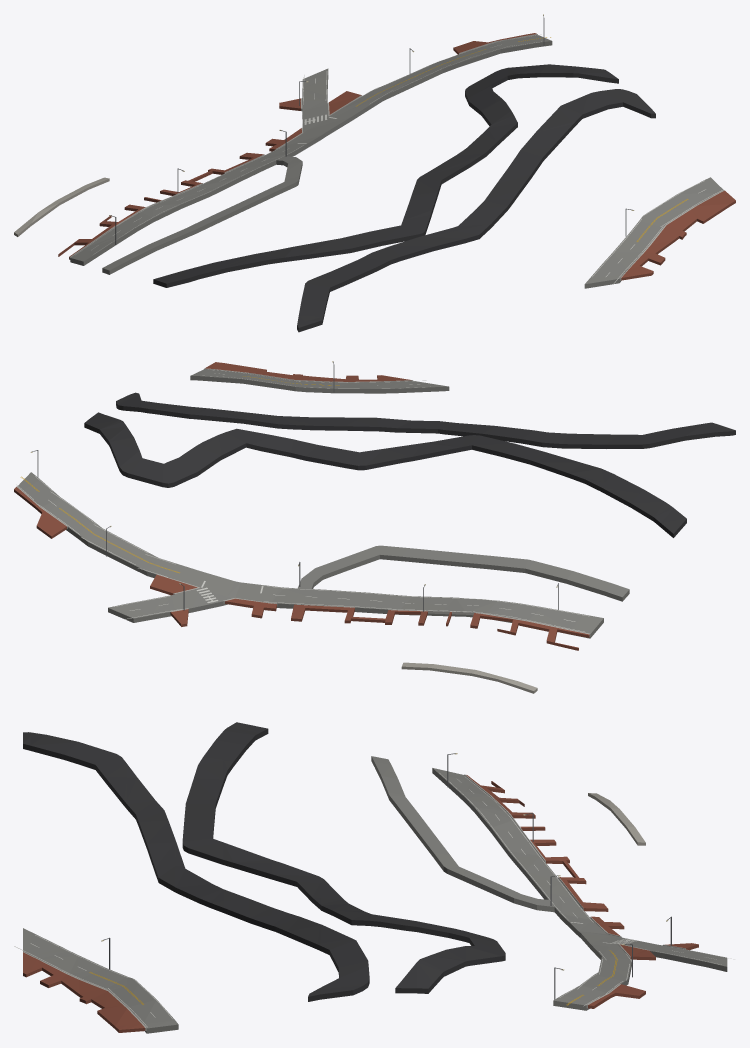
The picture shows the model from 3 angles, top to bottom: view 1: azimuth 30°, elevation 25°; view 2: azimuth 150°, elevation 25°; view 3: azimuth 270°, elevation 25°; orthographic projection. The views are drawn at different scales.
Size of the model in its own units: 148 by 28.35 by 149.
